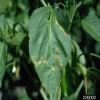Bell_pepper leaf spot: (27, 8, 72, 99)
